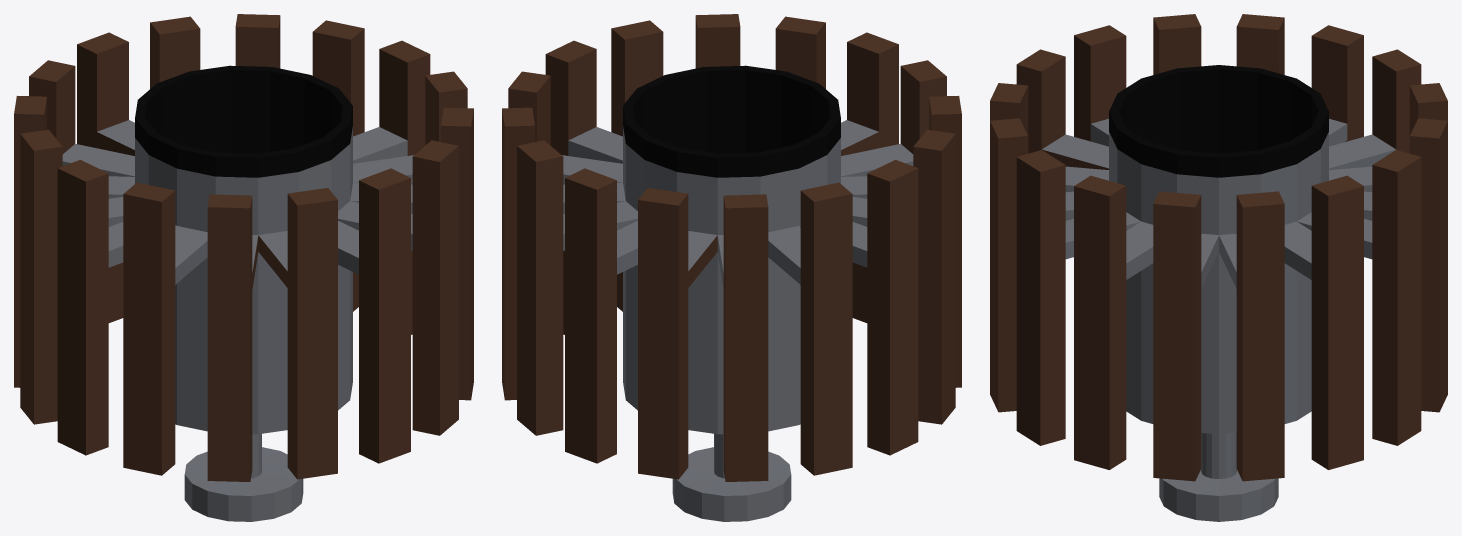
The model's file is lixeira.fbx.
3 views of the same model, side by side, from view 1: azimuth 30°, elevation 25°; view 2: azimuth 150°, elevation 25°; view 3: azimuth 270°, elevation 25° (orthographic).
Visible parts, largest first — view 1: Cylinder; view 2: Cylinder; view 3: Cylinder.
Boxes of the visible parts, x1,y1,x2,y2 form: Cylinder: (14, 14, 473, 521); Cylinder: (502, 14, 961, 521); Cylinder: (990, 14, 1447, 521).
Size of the model in its own units: 416 by 387 by 416.
